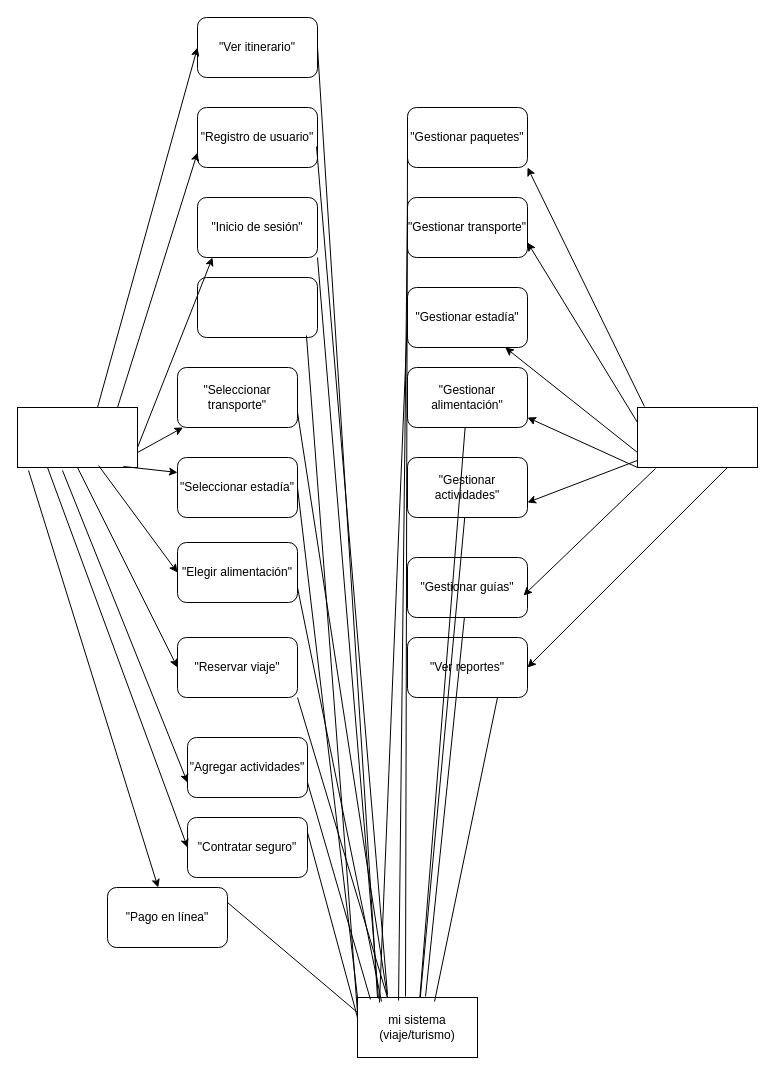
Image size: 775x1075. Some labels were removed from this diagram. Here are the shapes that lost their labels. From the top down, the centre of each, then its label:
[257,307]: "Buscar viajes"
[77,437]: CLIENTE
[697,437]: Admin
